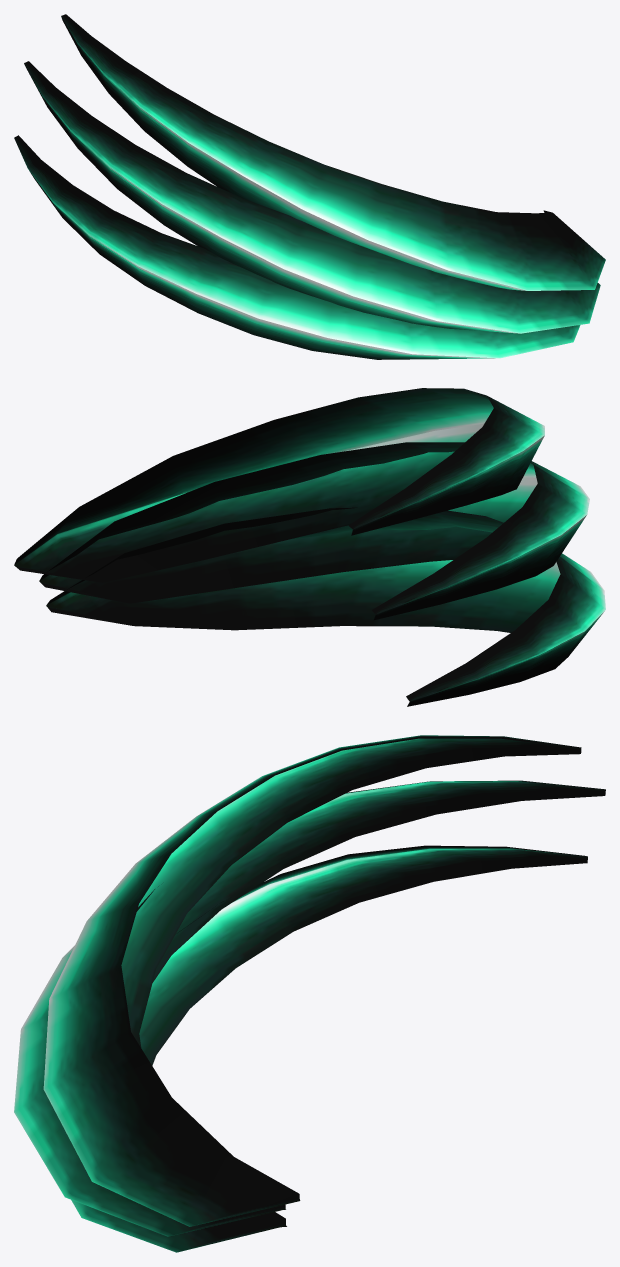
Rendered from model_3_attack1.FBX.
3 views of the same model, one above another, from view 1: azimuth 30°, elevation 25°; view 2: azimuth 150°, elevation 25°; view 3: azimuth 270°, elevation 25° (orthographic). The views are drawn at different scales.
Visible parts, largest first — view 1: model_3_attack1; view 2: model_3_attack1; view 3: model_3_attack1.
Boxes of the visible parts, bbox=[...] form: model_3_attack1: bbox=[14, 14, 605, 359]; model_3_attack1: bbox=[14, 388, 605, 706]; model_3_attack1: bbox=[14, 735, 605, 1252].
Size of the model in its own units: 490 by 274 by 465.
Materials: 1 (1 with a texture image).
